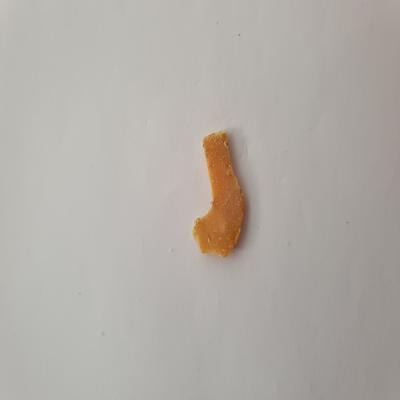plastic: (187, 127, 249, 259)
